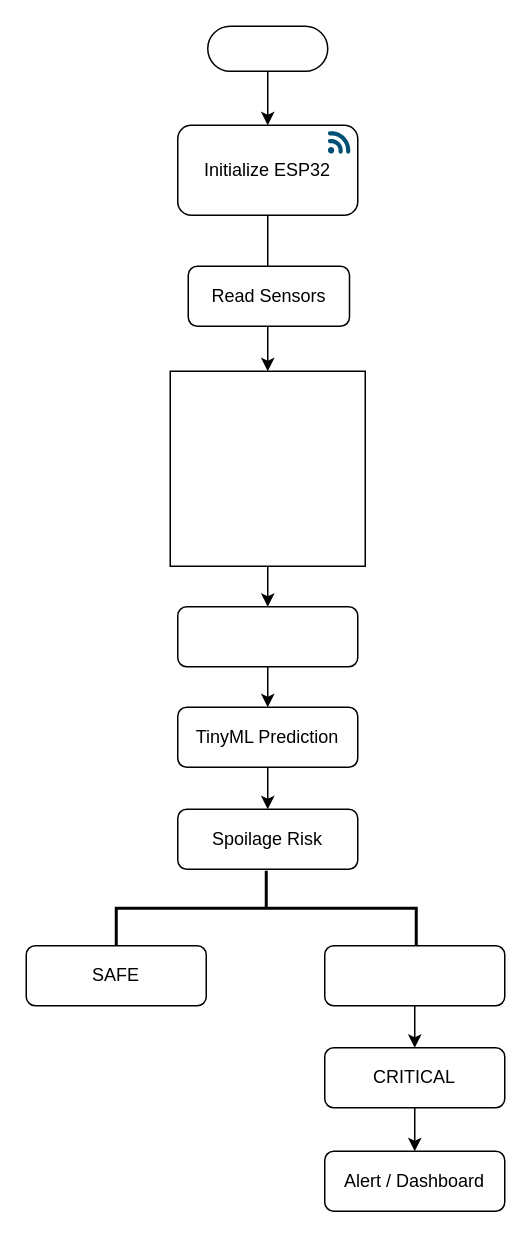
The diagram is 531 pixels wide and 1238 high, and some of its shapes have lost their labels. The shapes that lost their labels are listed below. From the top down, each one's box as (x1, y1, x2, y2) in pixels, then its label:
(206, 25, 328, 71): START
(169, 370, 365, 566): Temperature Humidity Moisture Gas Level Insects Count Sack Temperature
(176, 605, 358, 667): process sensor Data
(323, 944, 505, 1006): WANRNIG
